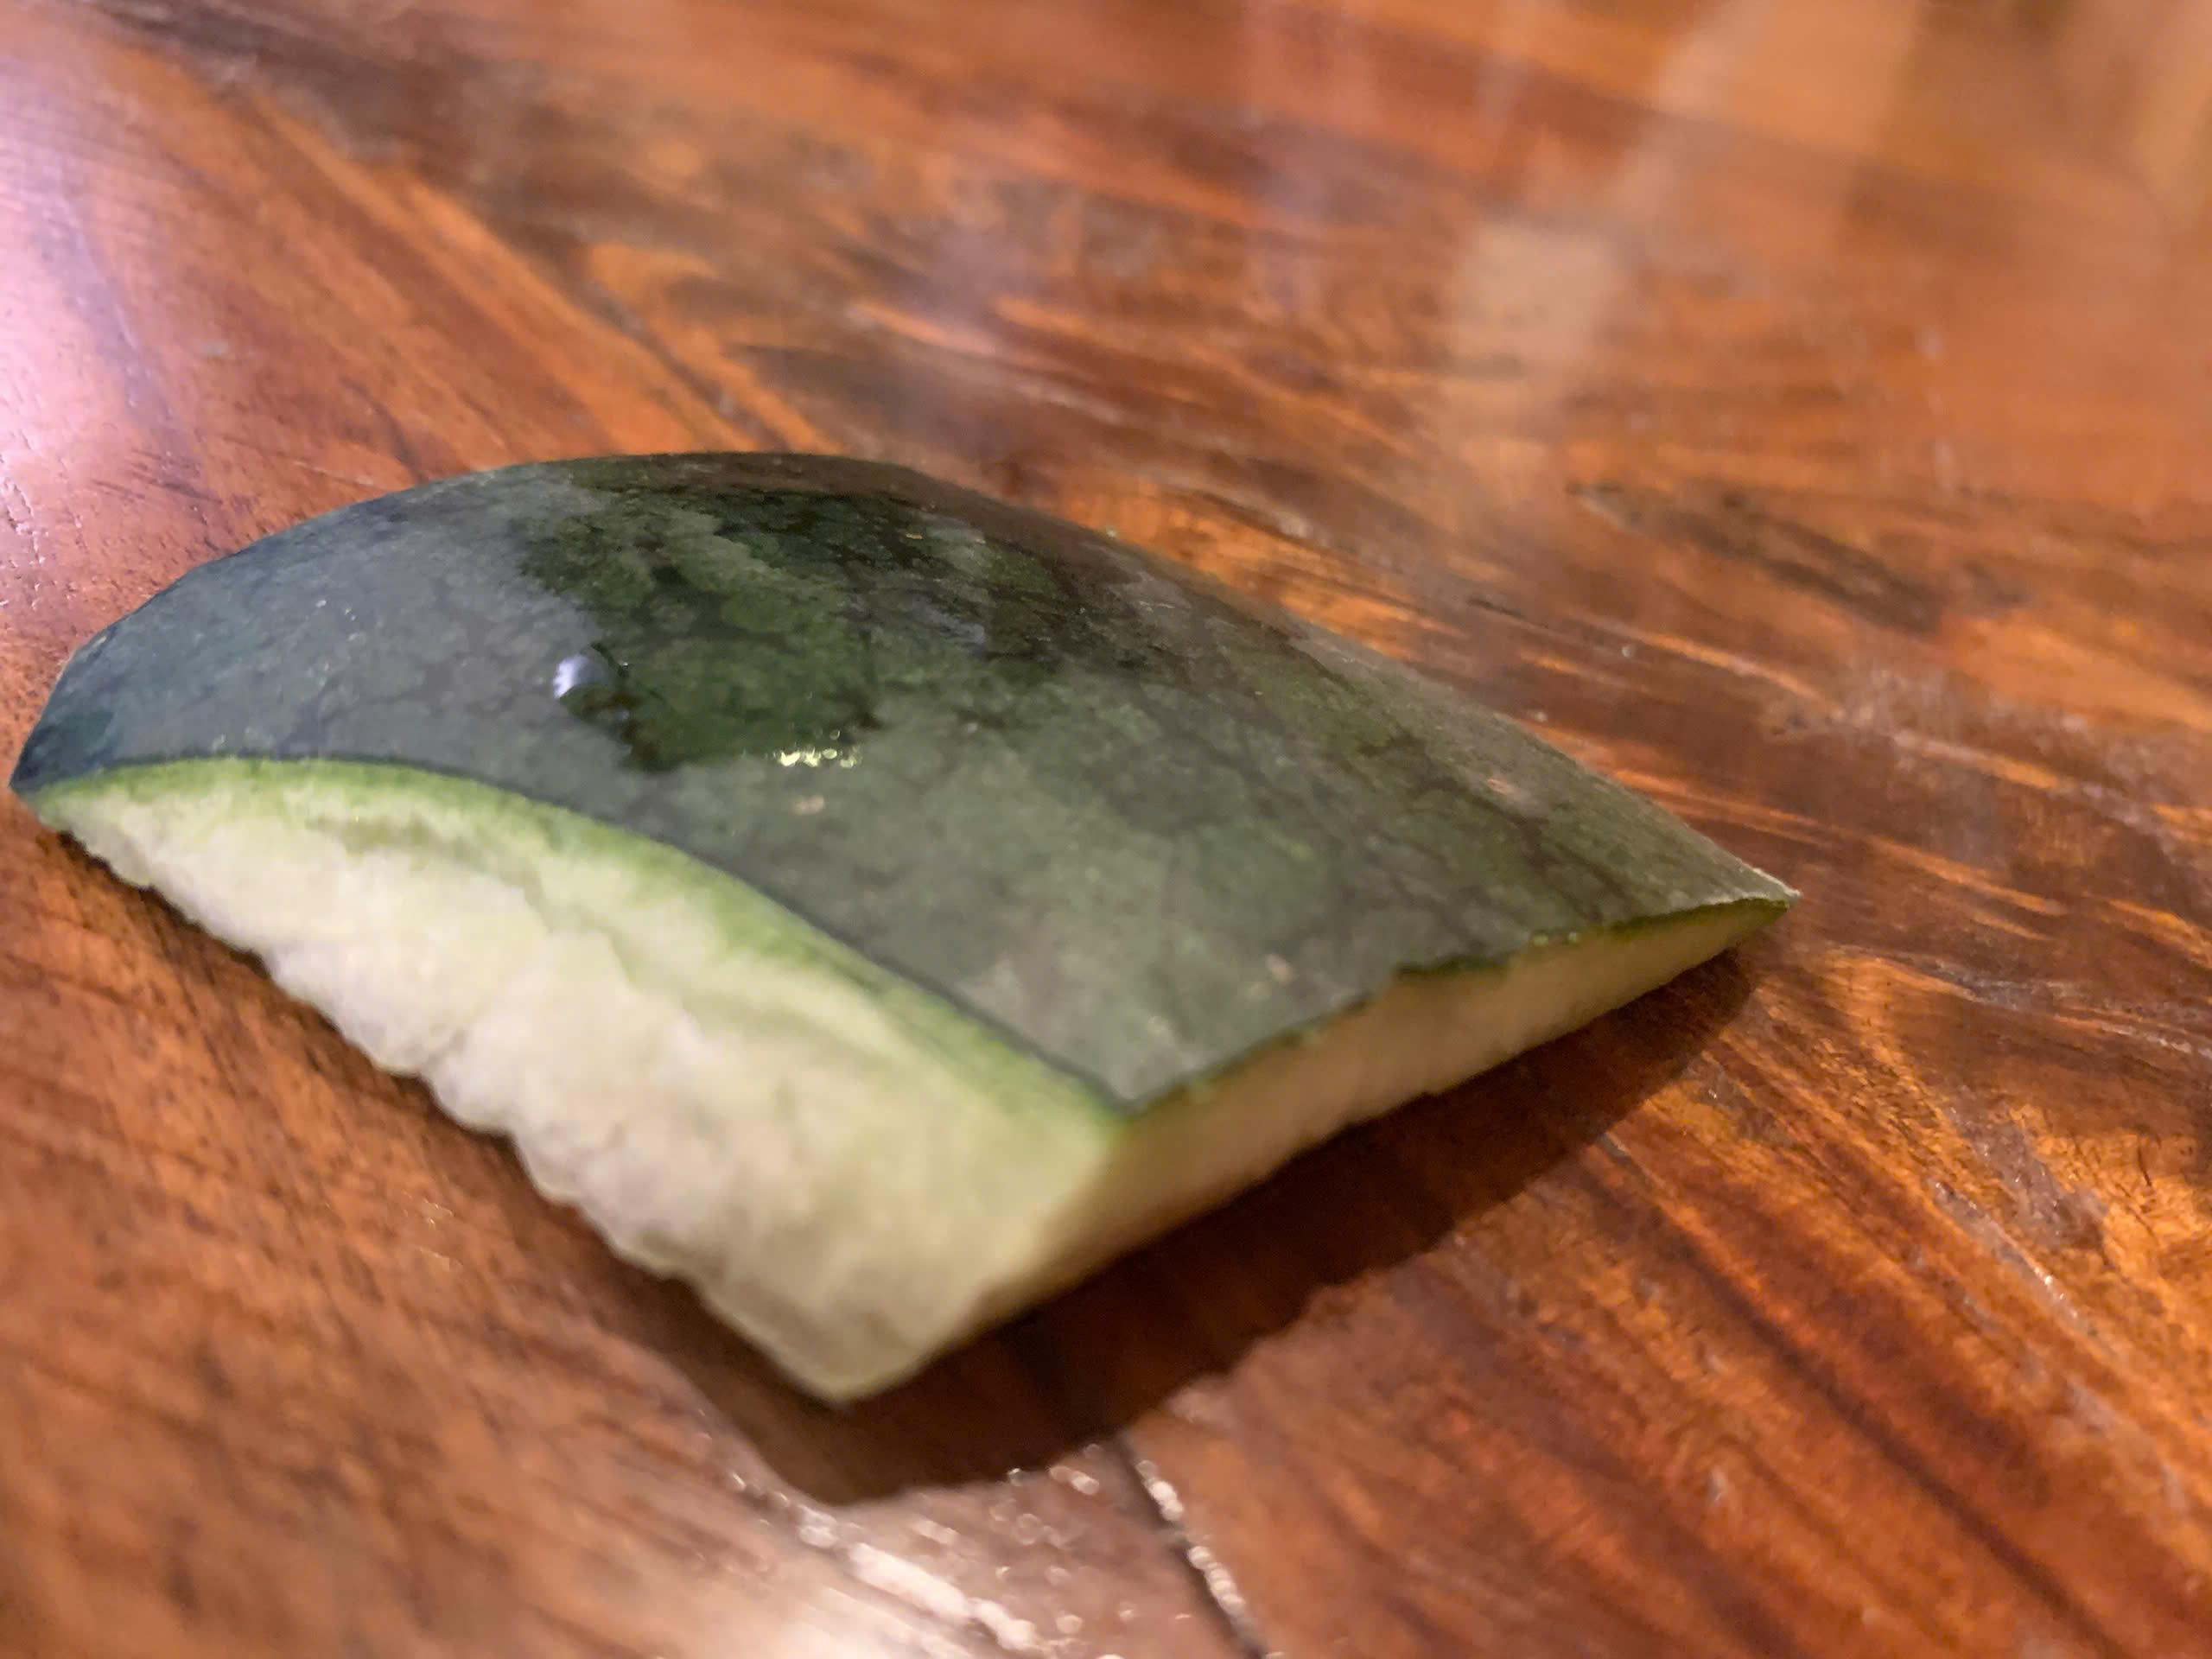Huu co: (23, 447, 1800, 1390)
